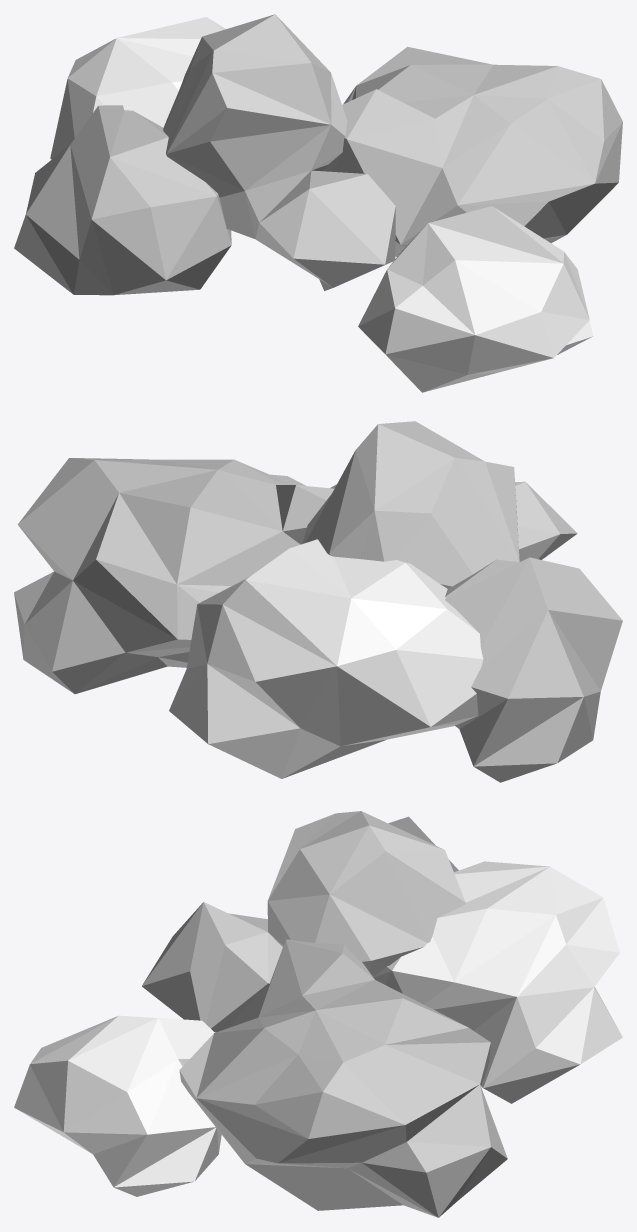
Rendered from ancient_SM_Env_Bush_Cluster_04.gltf.
3 renders of one model, top to bottom at view 1: azimuth 30°, elevation 25°; view 2: azimuth 150°, elevation 25°; view 3: azimuth 270°, elevation 25°, orthographic. The views are drawn at different scales.
Visible parts, largest first — view 1: SM_Env_Bush_Cluster_04; view 2: SM_Env_Bush_Cluster_04; view 3: SM_Env_Bush_Cluster_04.
Part boxes in pixels (bbox=[...]): SM_Env_Bush_Cluster_04: bbox=[14, 14, 622, 392]; SM_Env_Bush_Cluster_04: bbox=[14, 421, 622, 782]; SM_Env_Bush_Cluster_04: bbox=[14, 811, 622, 1217].
Bounding box in the file's own units: 6.66 × 3.51 × 6.63.
Materials: 1 (1 with a texture image).
